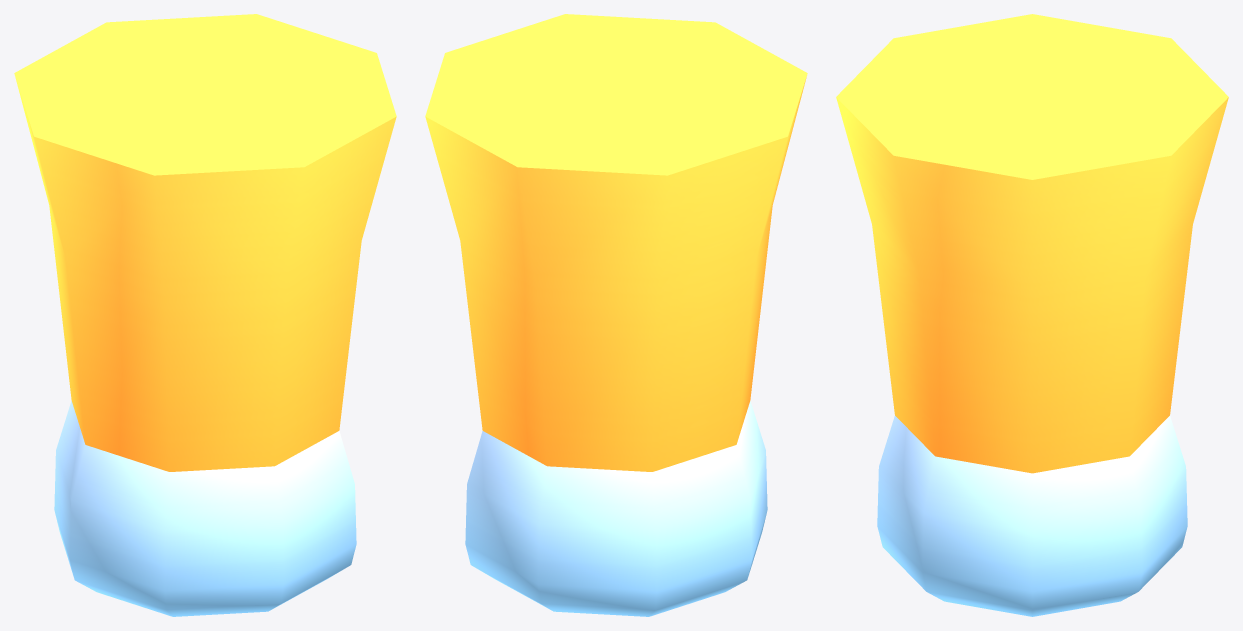
Rendered from gold_and_steel_grip_068.glb.
3 views of the same model, side by side, from view 1: azimuth 30°, elevation 25°; view 2: azimuth 150°, elevation 25°; view 3: azimuth 270°, elevation 25° (orthographic).
Visible parts, largest first — view 1: gold_and_steel_grip_068; view 2: gold_and_steel_grip_068; view 3: gold_and_steel_grip_068.
Boxes of the visible parts, x1=… form: gold_and_steel_grip_068: x1=14, y1=14, x2=396, y2=616; gold_and_steel_grip_068: x1=425, y1=14, x2=807, y2=616; gold_and_steel_grip_068: x1=836, y1=14, x2=1228, y2=616.
Bounding box in the file's own units: 2.65 × 3.48 × 2.65.
1 material, 1 textured.
